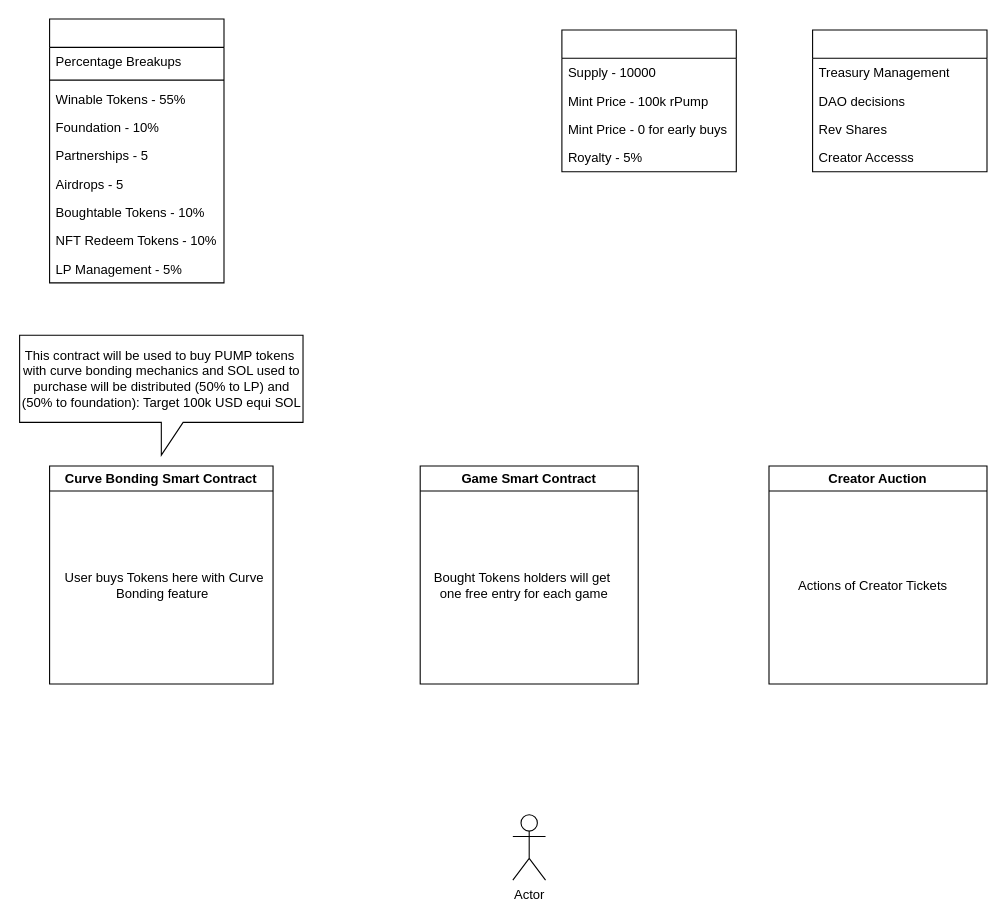
This 1006x922 diagram has some shape labels left out. Each missing label, with the box of its shape:
NFT Collecion: (561, 29, 736, 172)
Tokenomics: (49, 18, 224, 283)
Utilities: (812, 29, 987, 172)
